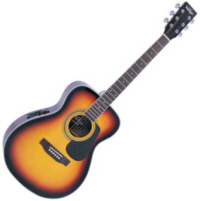guitar: (3, 2, 198, 200)
